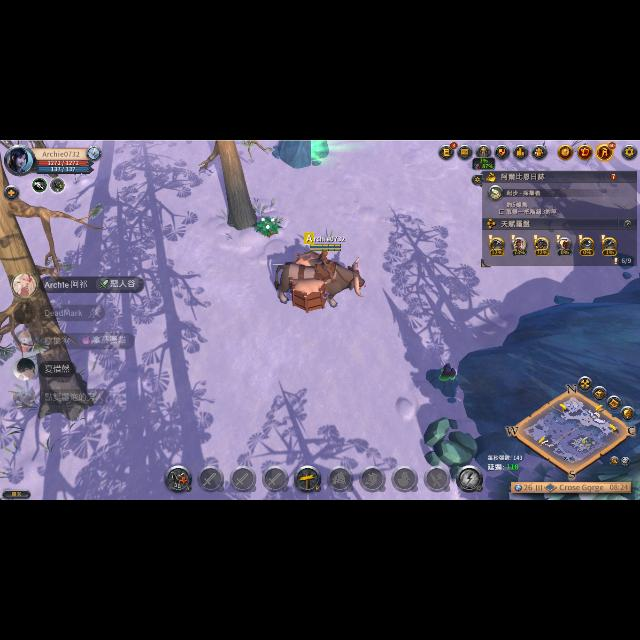mine_iii: (425, 364, 461, 398)
